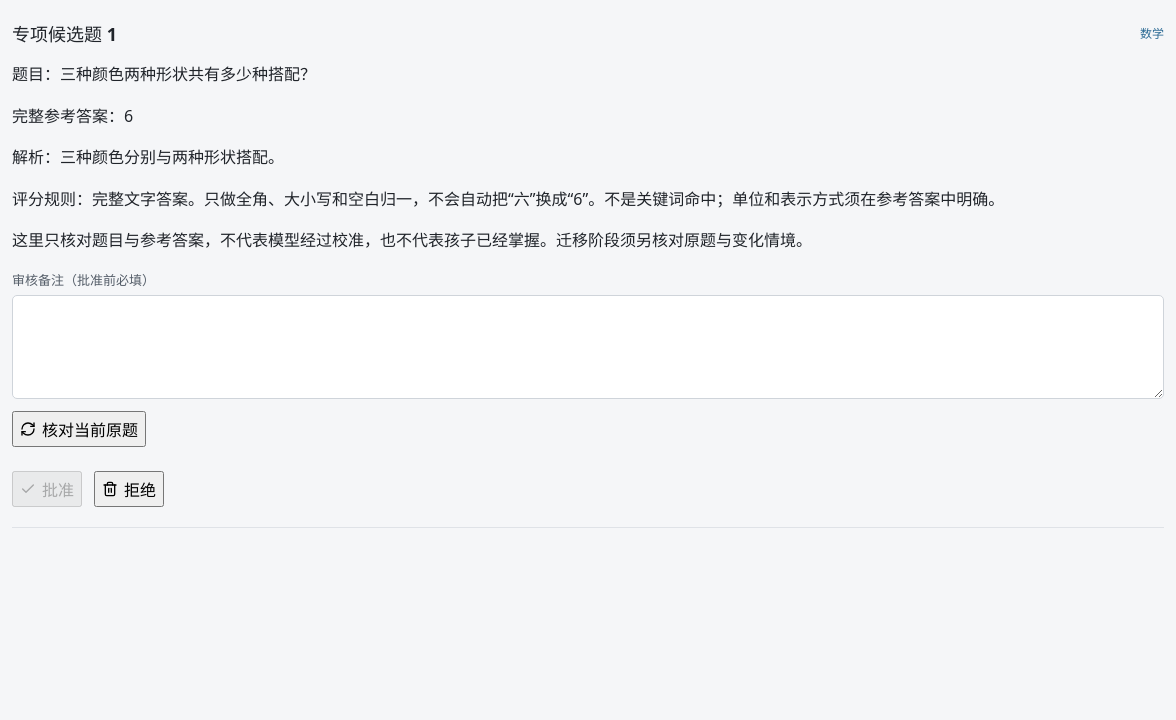
Test: persists draft and exact source binding through remount without granting a transfer stage
This screenshot has width=1176, height=720.
Later steps or results of the test are not shown.
Type "已独立核对完整参考答案和题意。" into the text box named "专项候选题1审核备注" at (588,347), box [12, 295, 1164, 399]
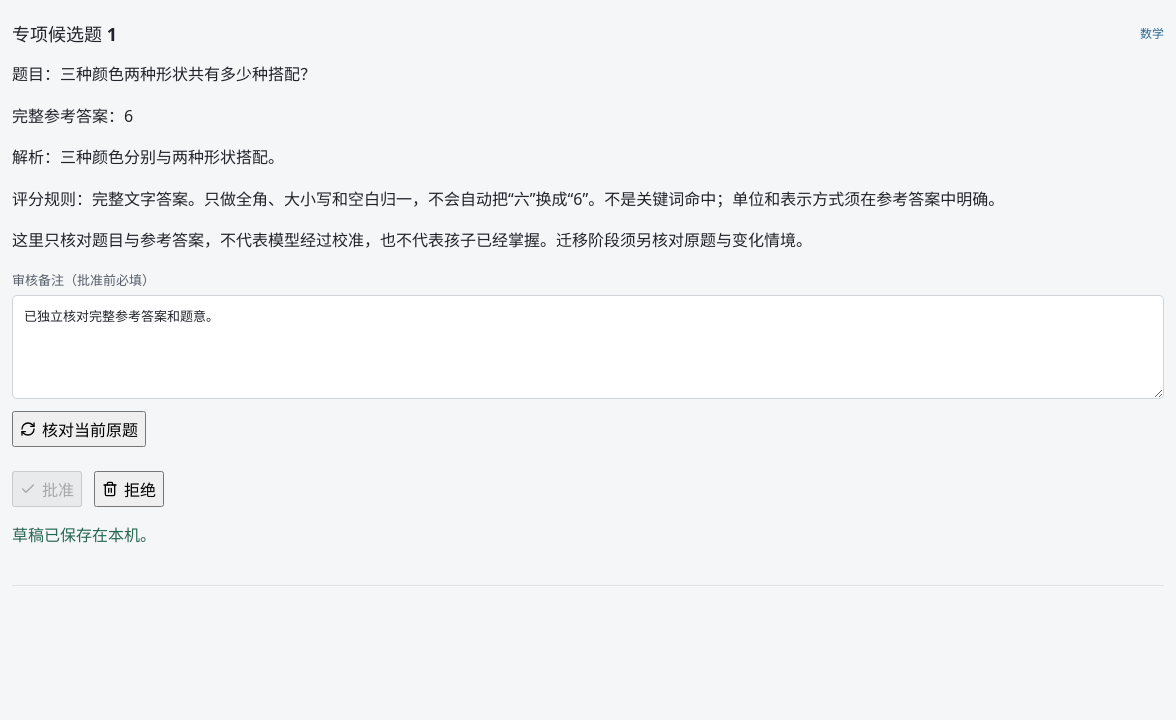
Click the button "核对当前原题" at (79,429), box [12, 411, 146, 447]
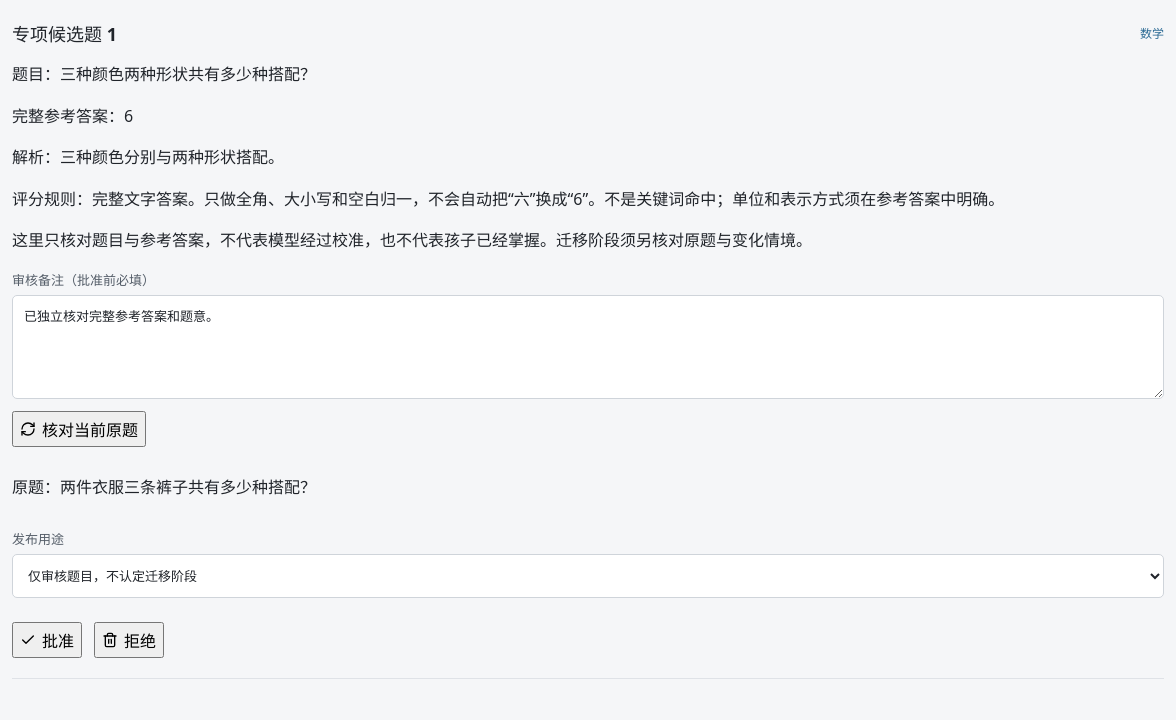
Check: the text "两件衣服三条裤子共有多少种搭配？" is shown, box [60, 476, 316, 498]
Check: the button "批准" is enabled, box [12, 622, 82, 658]
